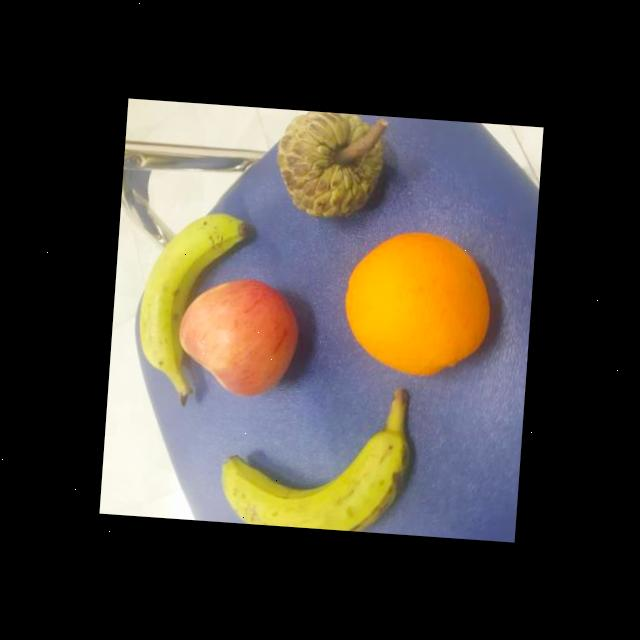Sakya fruit: (264, 109, 388, 222)
apple: (172, 276, 304, 401)
banana: (212, 428, 420, 534)
orange: (336, 222, 496, 382)
